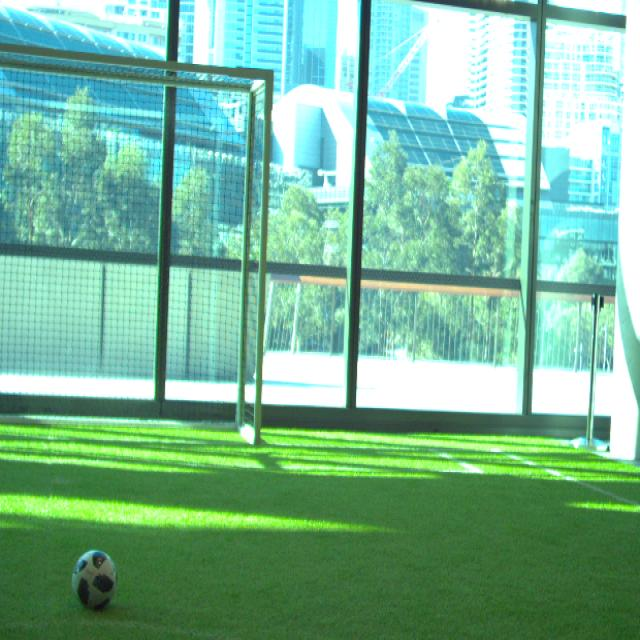ball: (73, 548, 116, 609)
goalpost: (252, 70, 272, 450)
